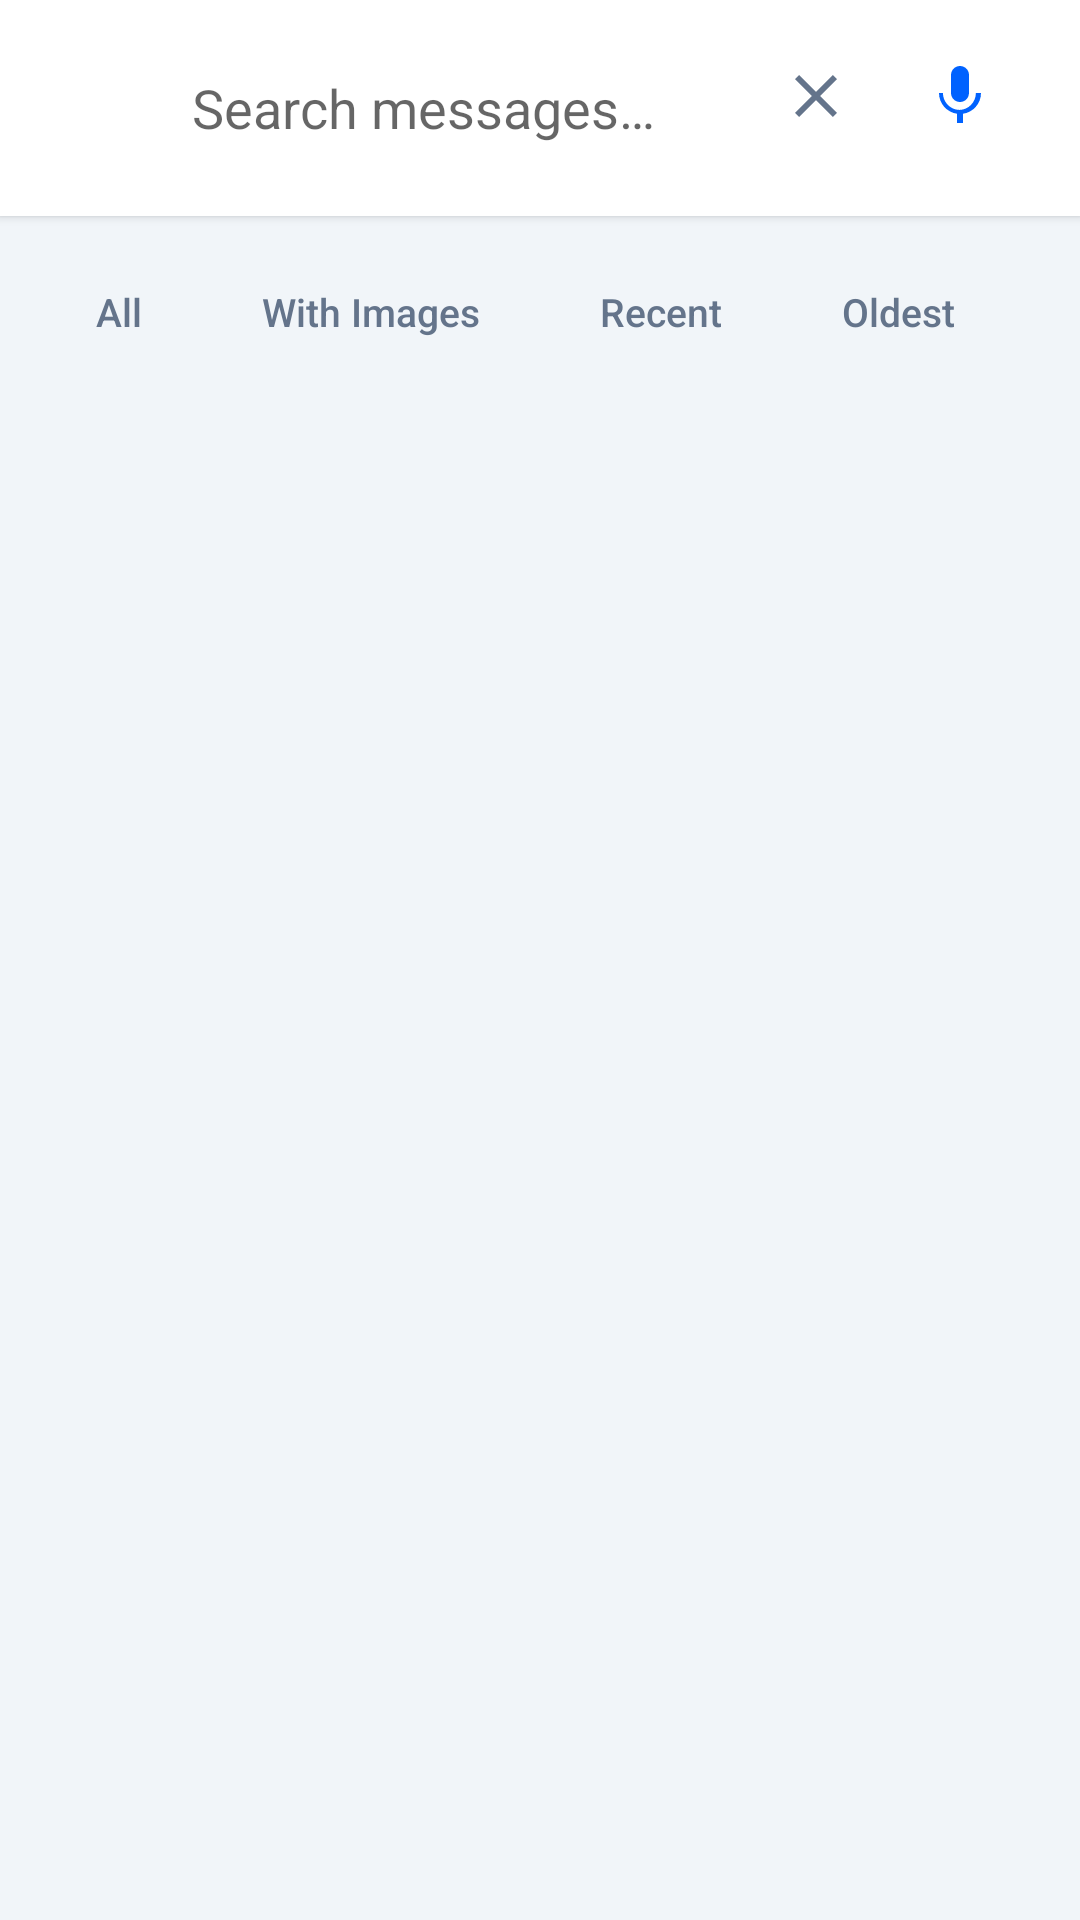

Named icons in this screenshot (1080px x 1920px) and their bounding boxes, (x1, y1, x2, y2):
Clear search: (795, 75, 837, 117)
Voice search: (939, 66, 981, 123)
